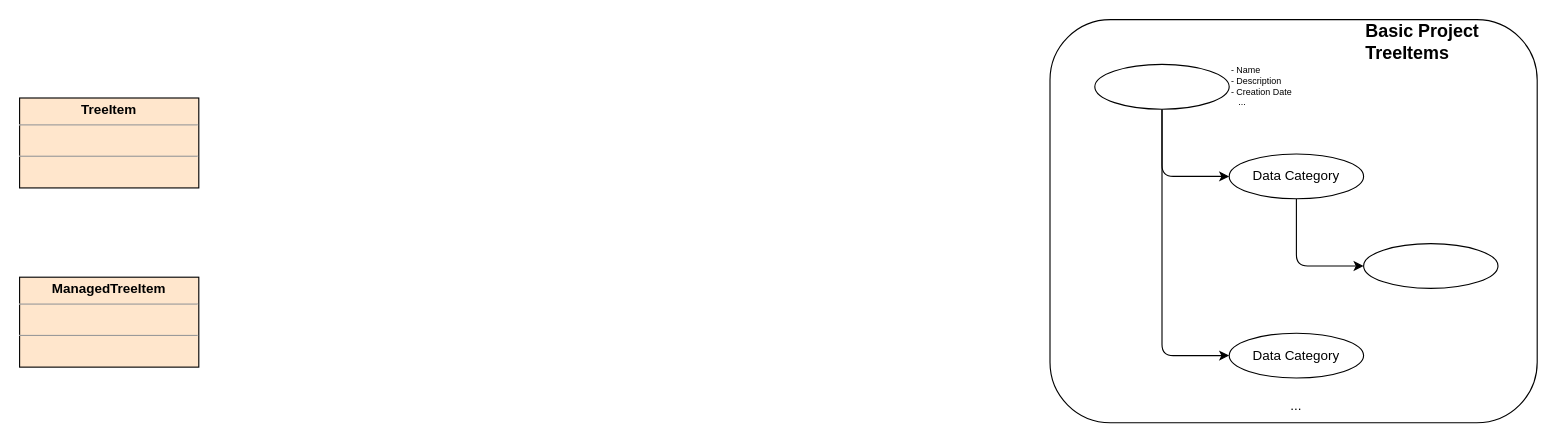
The diagram is 1557 pixels wide and 442 high, and some of its shapes have lost their labels. Here are the shapes that lost their labels. From the top down, the box of each, then its label:
(1094, 63, 1229, 109): Project
(1362, 242, 1498, 288): Data or Data Sub Categrory
